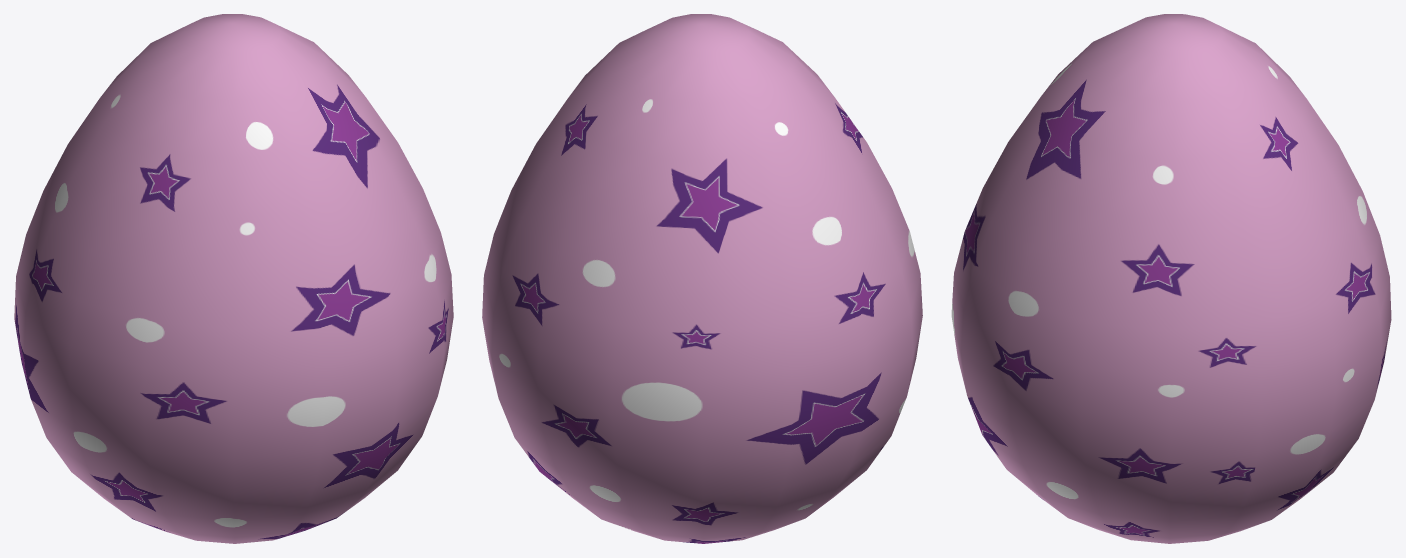
File: DinosaurEgg17.fbx
3 views of the same model, side by side, from view 1: azimuth 30°, elevation 25°; view 2: azimuth 150°, elevation 25°; view 3: azimuth 270°, elevation 25° (orthographic).
Visible parts, largest first — view 1: DinosaurEgg17; view 2: DinosaurEgg17; view 3: DinosaurEgg17.
Boxes of the visible parts, x1,y1,x2,y2 form: DinosaurEgg17: (14,14,453,543); DinosaurEgg17: (482,14,922,543); DinosaurEgg17: (951,14,1391,543).
Bounding box in the file's own units: 58.34 × 73.33 × 58.66.
